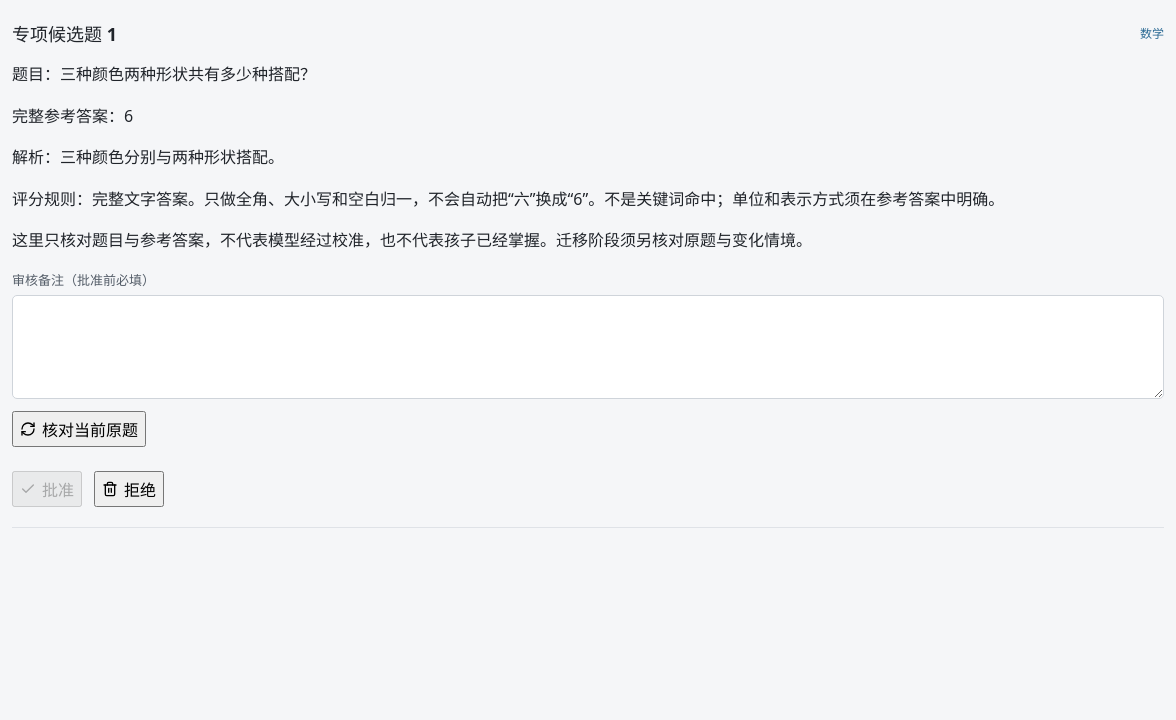
Scenario: sends an explicit retry with byte-identical original body only after read-only checks
In the text box named "专项候选题1审核备注": [588, 347] box [12, 295, 1164, 399], type "已独立核对完整参考答案和题意。"
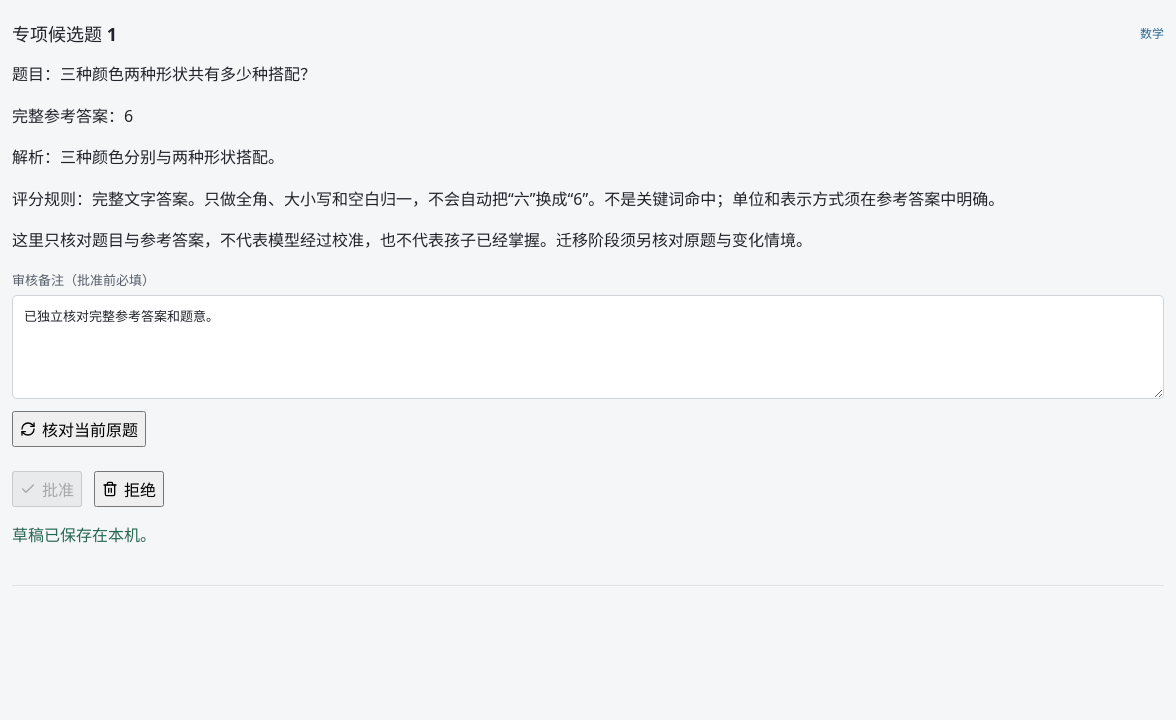
Click the button "核对当前原题": [79, 429] box [12, 411, 146, 447]
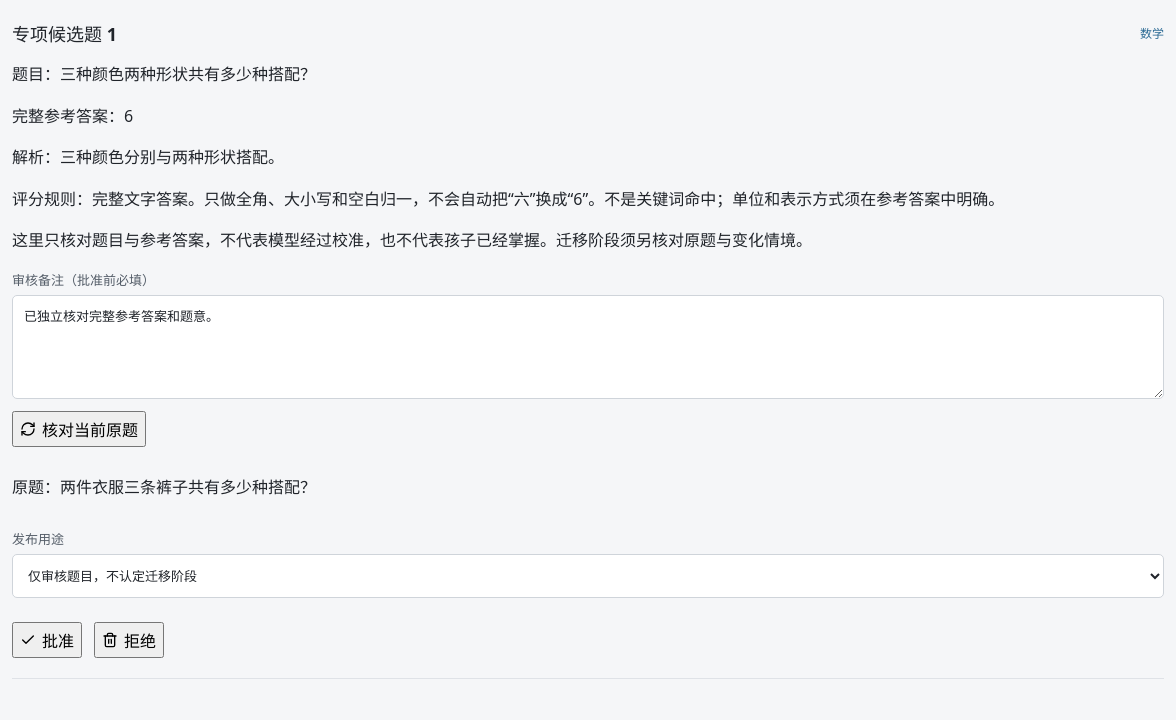
Expected: the text "两件衣服三条裤子共有多少种搭配？" is shown, [60, 476, 316, 498]
Expected: the button "批准" is enabled
Click the button "批准": [47, 640] box [12, 622, 82, 658]
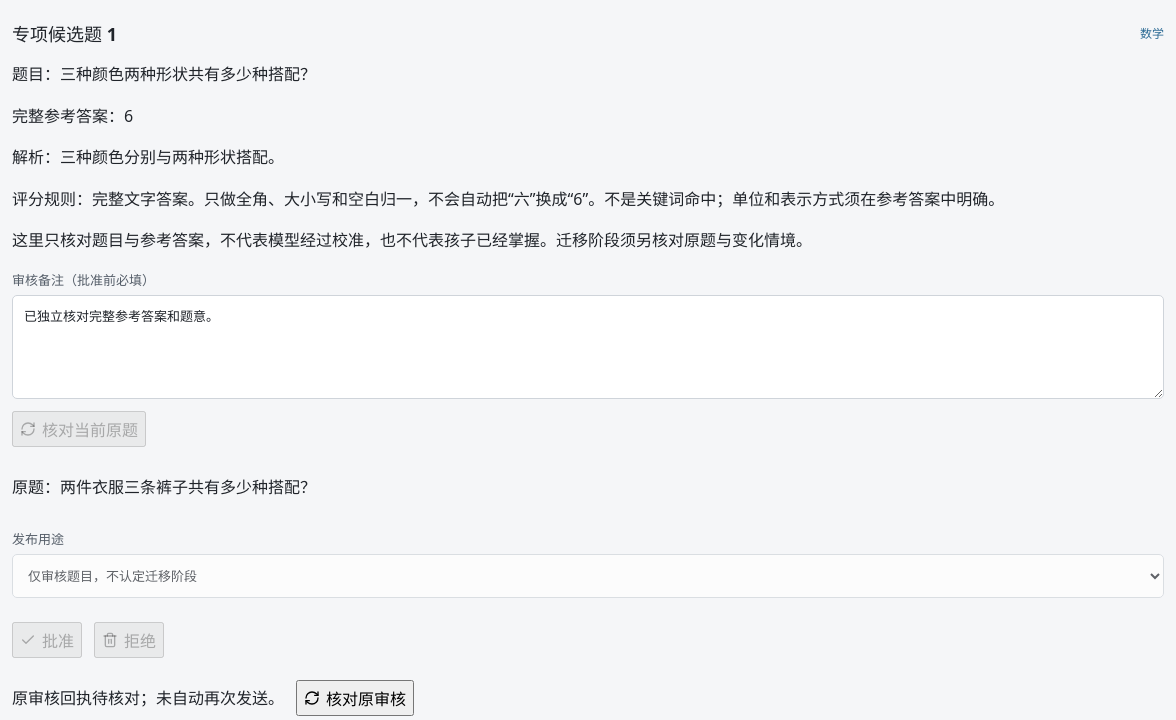
Click the button "核对原审核": [355, 698] box [296, 680, 414, 716]
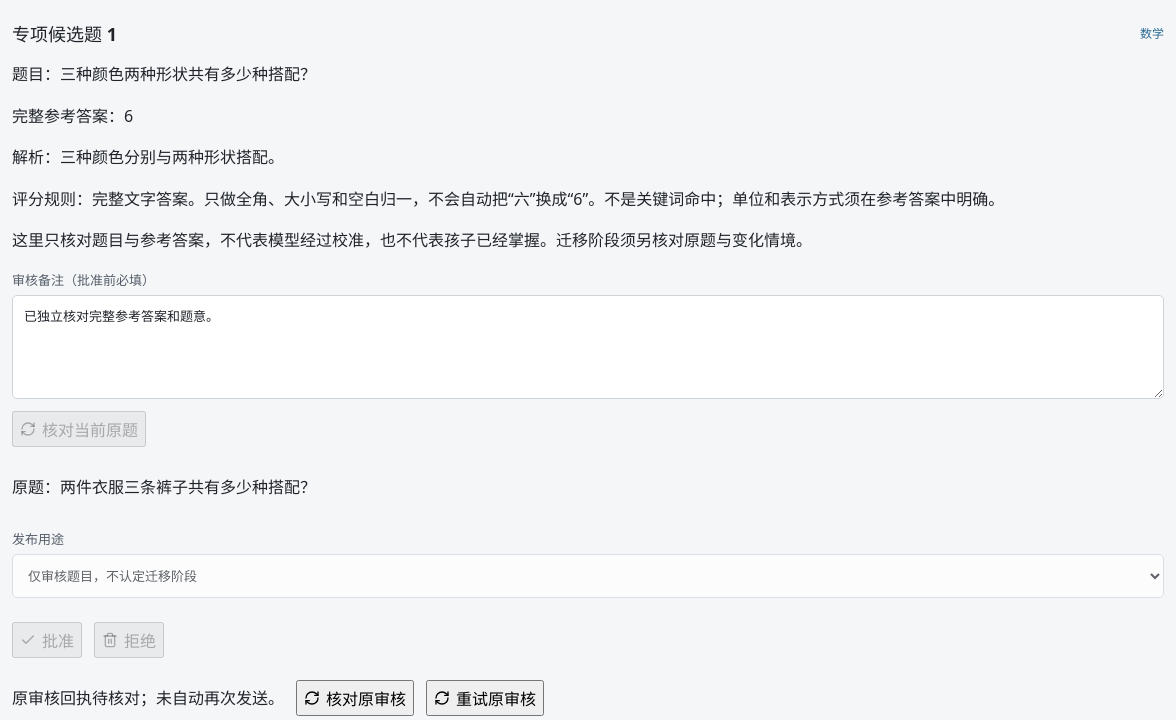
Click the button "重试原审核": [485, 698] box [426, 680, 544, 716]
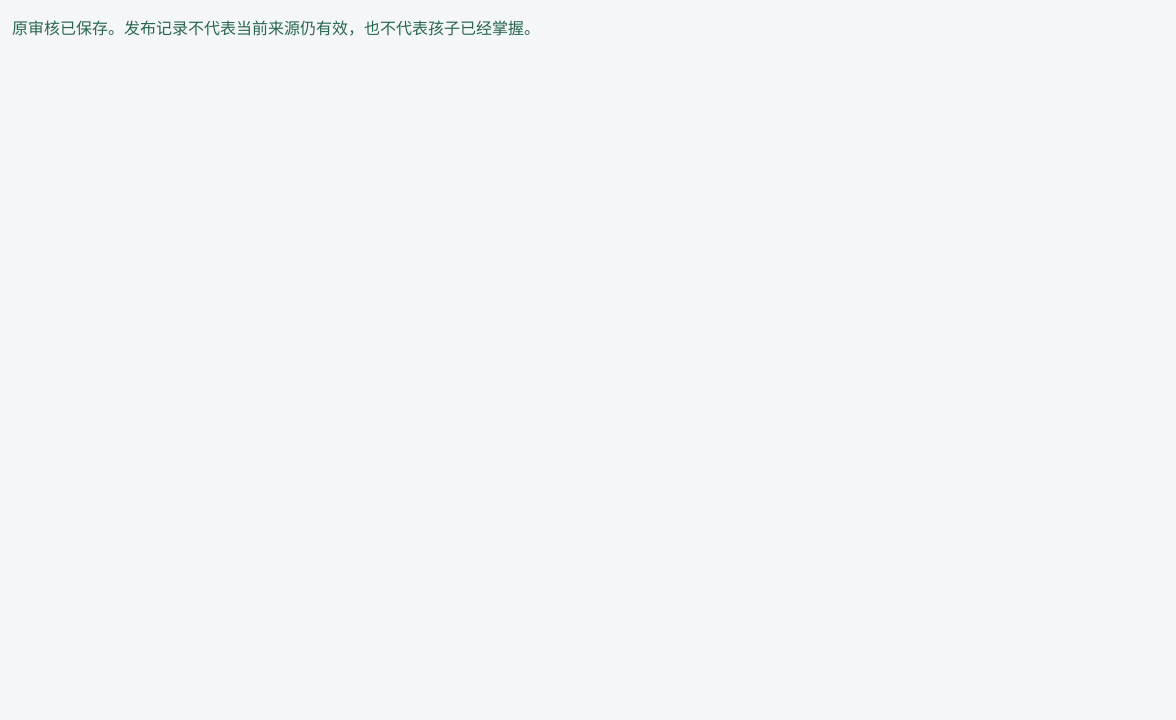
Expected: the text "原审核已保存。发布记录不代表当前来源仍有效，也不代表孩子已经掌握。" is shown, [12, 17, 540, 39]
